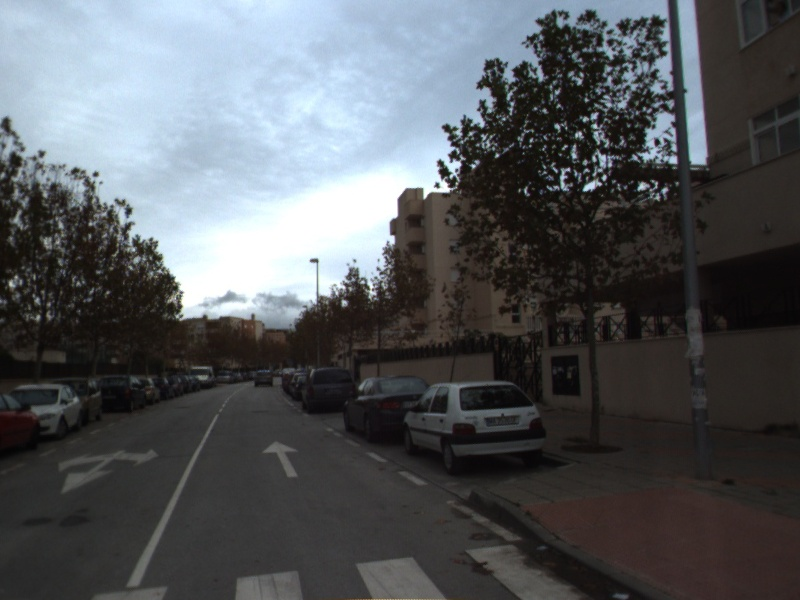STRAIGHT: (260, 439, 302, 479)
